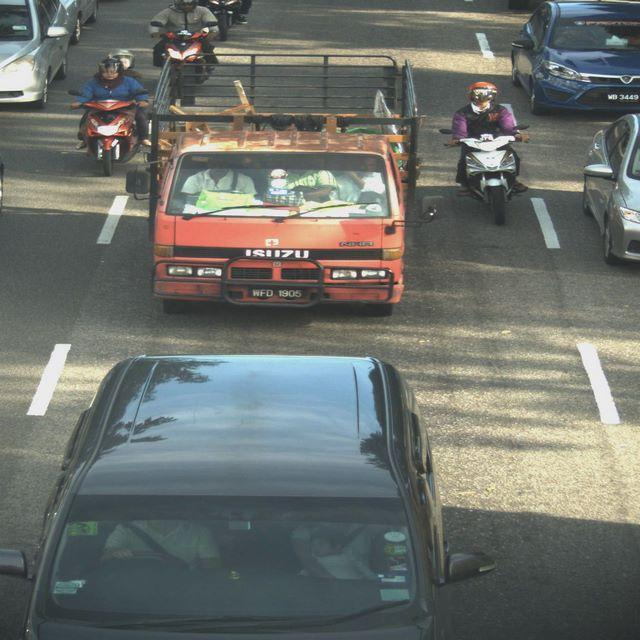License_Plate: (231, 278, 319, 308)
lorry: (132, 44, 444, 334)
